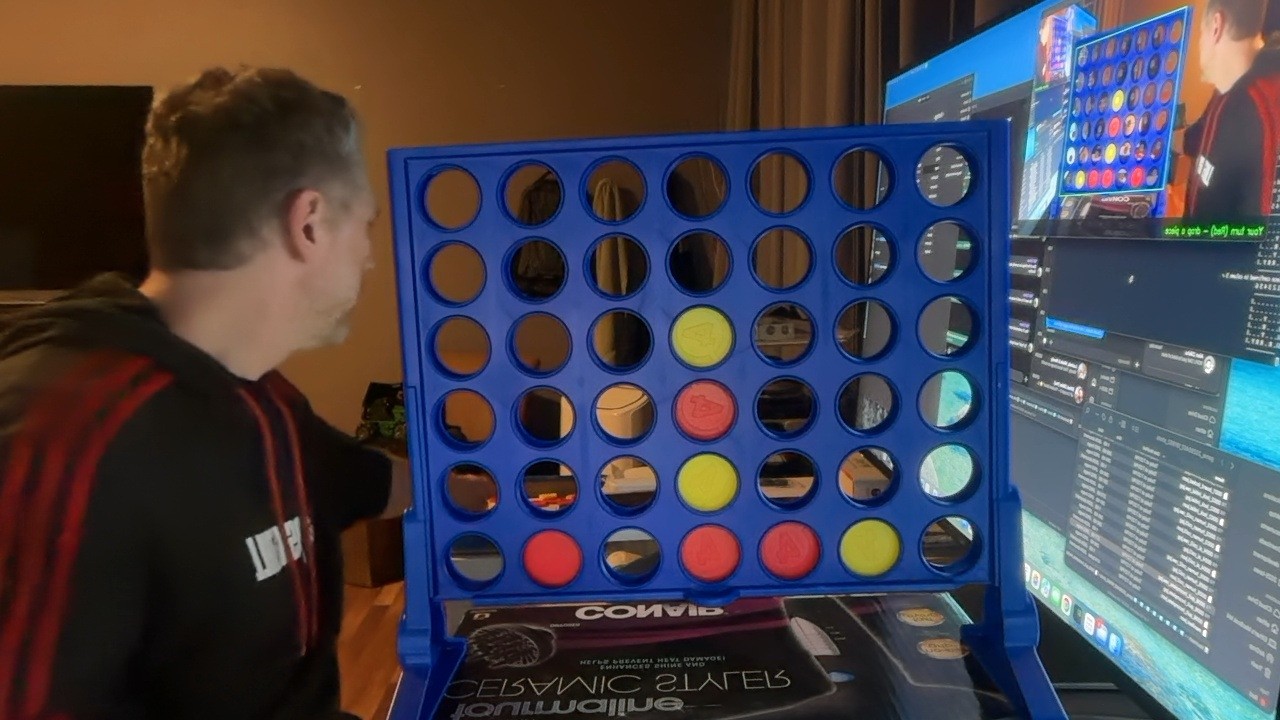red piece: (674, 380, 735, 440), (760, 521, 820, 579), (522, 530, 582, 587), (680, 525, 740, 582)
yellow piece: (670, 306, 733, 367), (677, 453, 738, 511), (839, 519, 900, 576)
